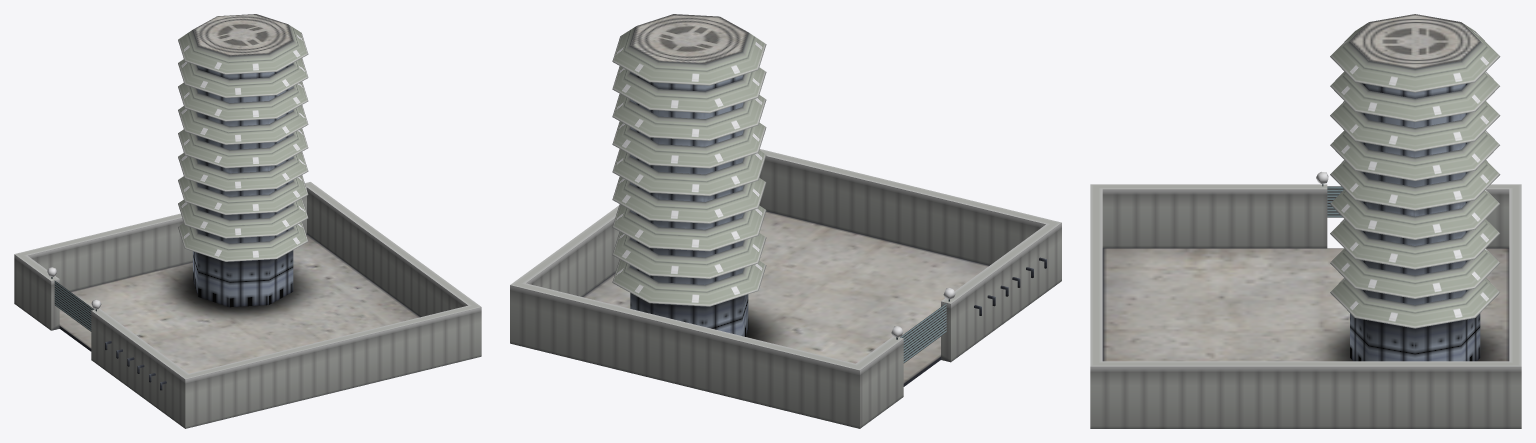
Rendered from LargeOffice.fbx.
3 views of the same model, side by side, from view 1: azimuth 30°, elevation 25°; view 2: azimuth 150°, elevation 25°; view 3: azimuth 270°, elevation 25° (orthographic). The views are drawn at different scales.
Parts seen in each view (by area): view 1: LargeOffice1; view 2: LargeOffice1; view 3: LargeOffice1.
Boxes of the visible parts, x1=… form: LargeOffice1: x1=14, y1=14, x2=481, y2=428; LargeOffice1: x1=510, y1=14, x2=1061, y2=428; LargeOffice1: x1=1090, y1=14, x2=1521, y2=428.
Bounding box in the file's own units: 8.04 × 6.45 × 7.88.
